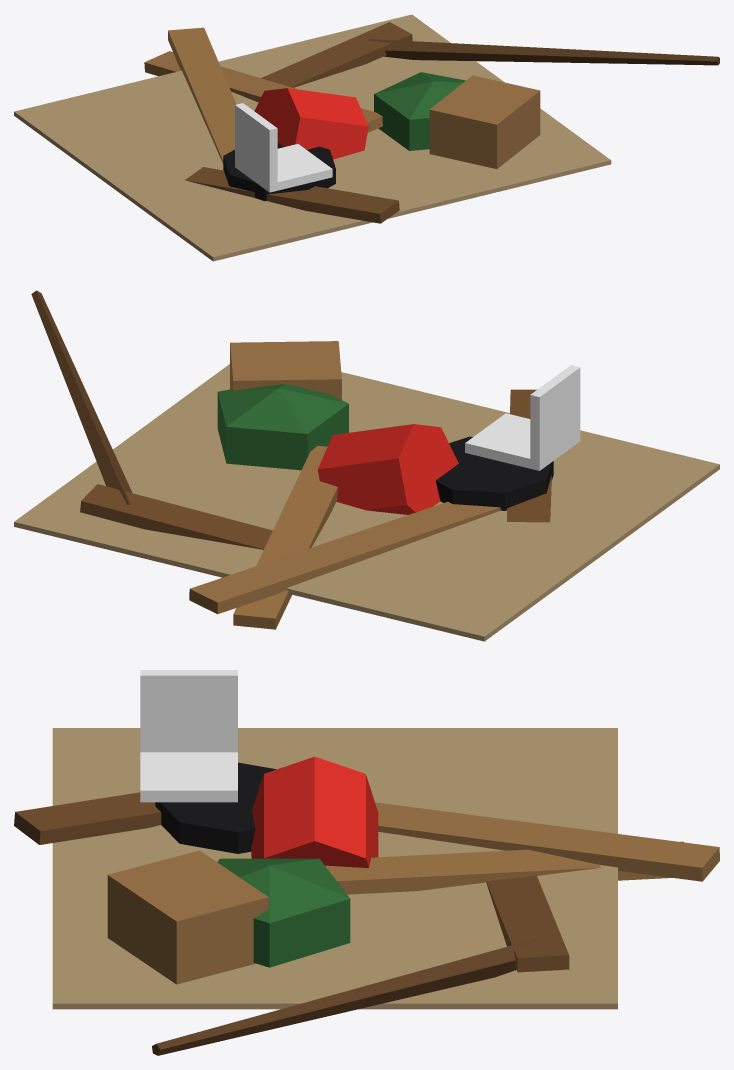
File: escombros_barro_0.obj
The picture shows the model from 3 angles, top to bottom: view 1: azimuth 30°, elevation 25°; view 2: azimuth 150°, elevation 25°; view 3: azimuth 270°, elevation 25°; orthographic projection. The views are drawn at different scales.
Parts seen in each view (by area): view 1: escombros_barro_0; view 2: escombros_barro_0; view 3: escombros_barro_0.
Boxes of the visible parts, x1,y1,x2,y2 form: escombros_barro_0: [14, 14, 719, 261]; escombros_barro_0: [14, 290, 719, 641]; escombros_barro_0: [14, 670, 719, 1055].
Size of the model in its own units: 4.11 by 0.884 by 3.25.
